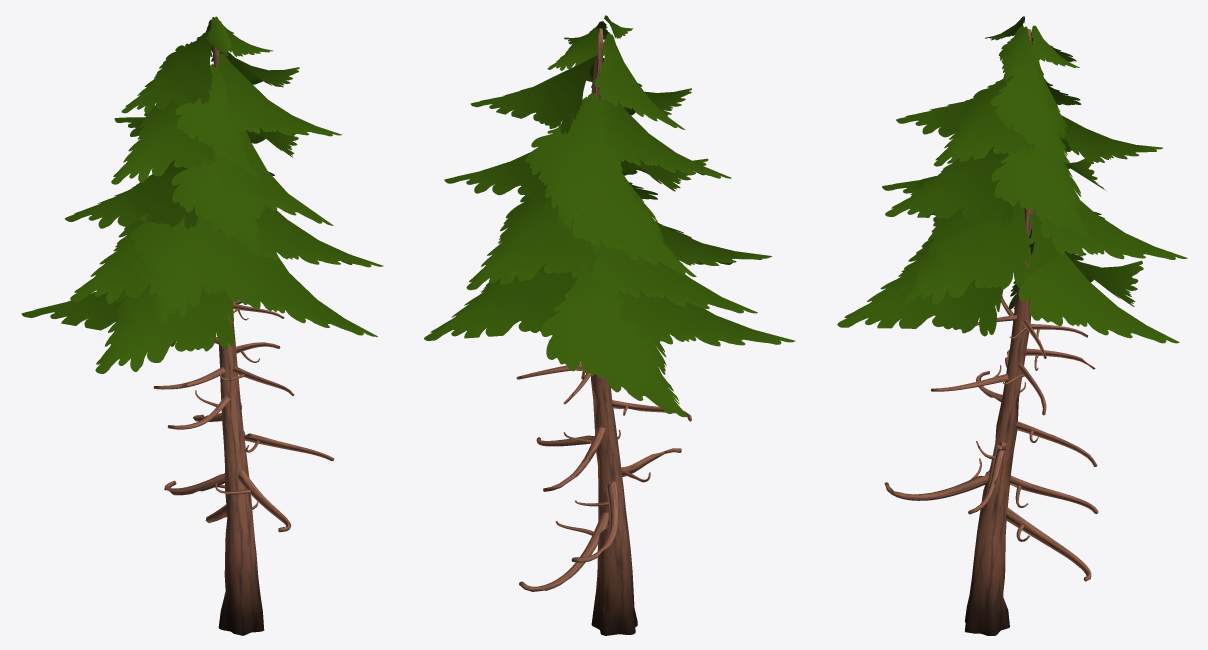
Rendered from pine-3.glb.
The picture shows the model from 3 angles, left to right: view 1: azimuth 30°, elevation 25°; view 2: azimuth 150°, elevation 25°; view 3: azimuth 270°, elevation 25°; orthographic projection. The views are drawn at different scales.
Visible parts, largest first — view 1: Pine_3; view 2: Pine_3; view 3: Pine_3.
Boxes of the visible parts, box(x1,y1,x2,y2) form: Pine_3: box(21, 16, 383, 635); Pine_3: box(424, 15, 795, 635); Pine_3: box(837, 16, 1187, 635).
Bounding box in the file's own units: 3.61 × 7.39 × 4.
Materials: 2 (2 with a texture image).
